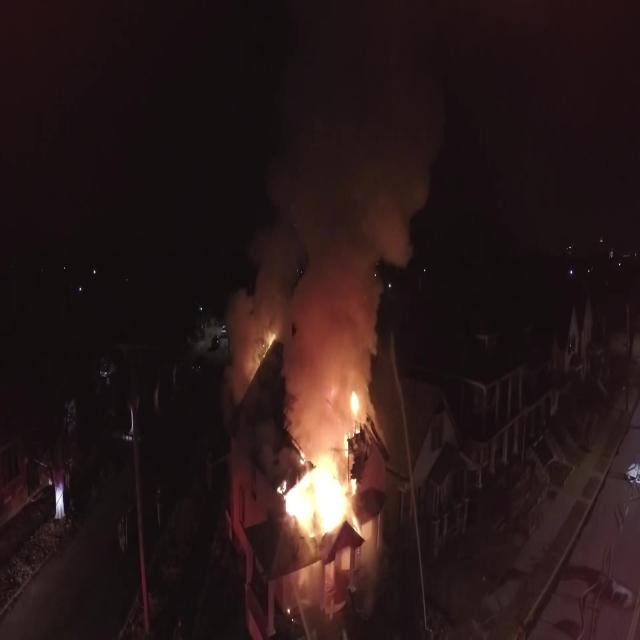Fire: (236, 332, 382, 570)
